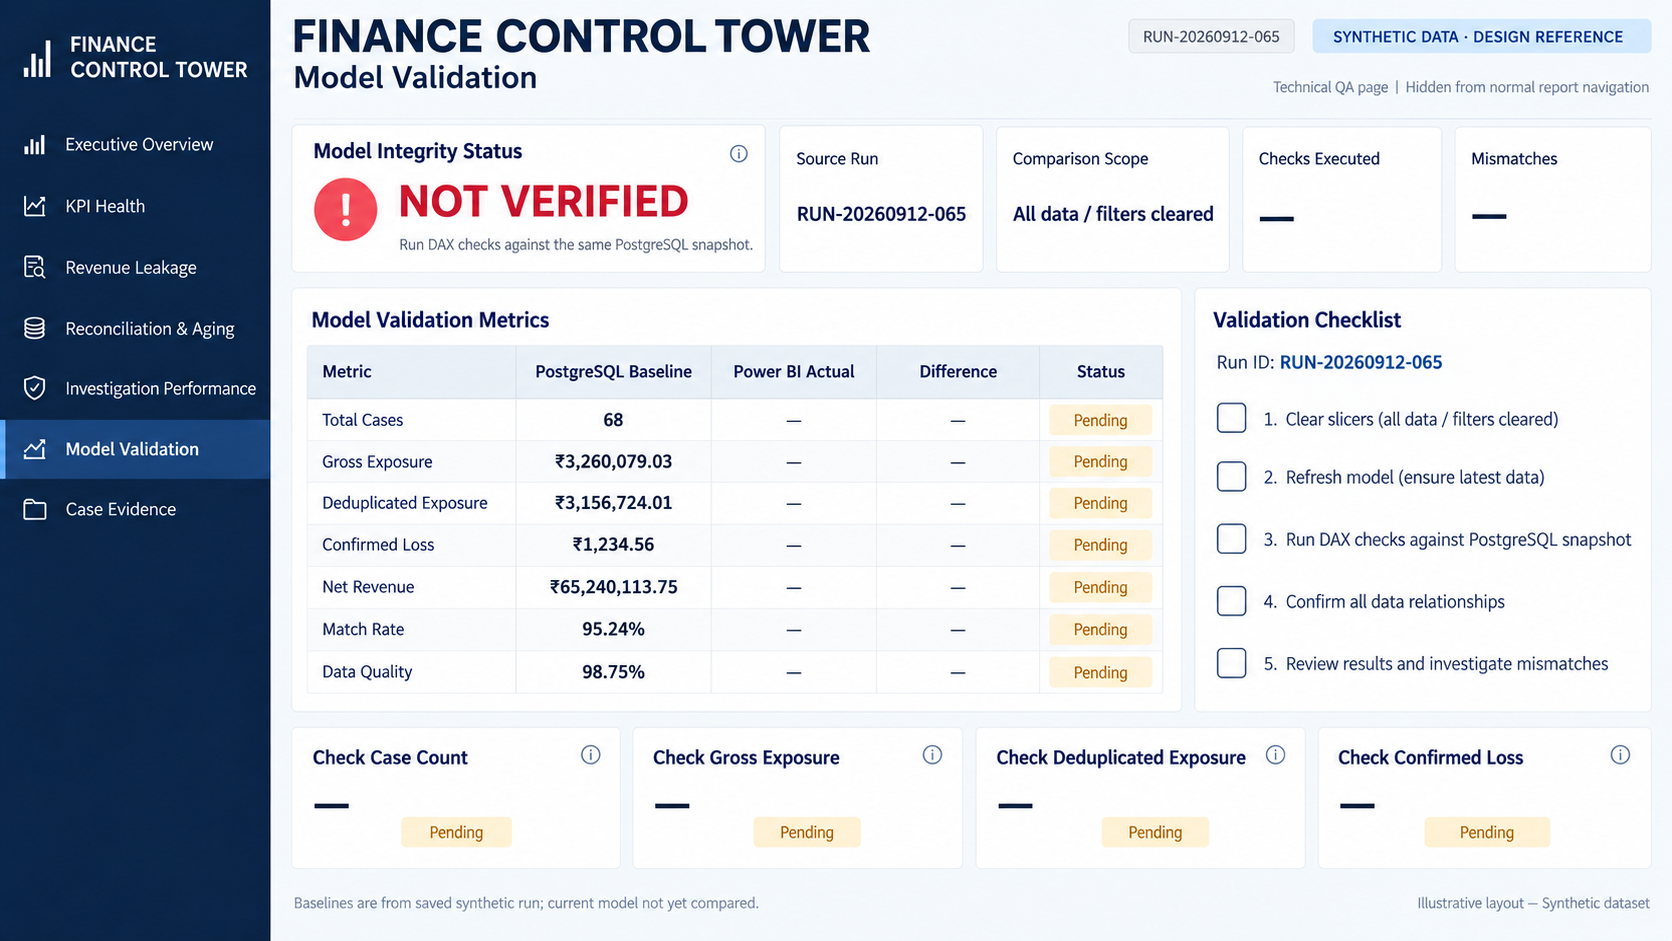

Layout of this report page (visuals, bound fields, positions):
{"tool":"powerbi","page":{"name":"Model Validation","canvas":[1280,720],"ordinal":5},"visuals":[{"type":"cardVisual","fields":{"Data":["rpt_control_totals.Check Gross Exposure Delta"]},"box":[0,223.1,289.3,171.4],"z":0},{"type":"cardVisual","fields":{"Data":["rpt_control_totals.Check Deduplicated Exposure Delta"]},"box":[0,394.5,377.2,158.7],"z":1000},{"type":"cardVisual","fields":{"Data":["rpt_control_totals.Check Confirmed Loss Delta"]},"box":[377.2,394.5,338.2,158.7],"z":2000},{"type":"cardVisual","fields":{"Data":["rpt_control_totals.Check Case Count Delta"]},"box":[606.6,223.1,273.9,171.4],"z":3000},{"type":"cardVisual","fields":{"Data":["rpt_control_totals.Check Net Revenue Delta"]},"box":[715.5,394.5,257.5,158.7],"z":4000},{"type":"cardVisual","fields":{"Data":["rpt_control_totals.Check Dedup Not Above Gross"]},"box":[870.5,223.1,409.9,171.4],"z":5000},{"type":"cardVisual","fields":{"Data":["rpt_control_totals.Check Recovery Within Loss"]},"box":[973,394.5,307.4,158.7],"z":6000},{"type":"cardVisual","fields":{"Data":["rpt_control_totals.Check Zero Exposure Rules Hold"]},"box":[289.3,223.1,317.4,171.4],"z":7000},{"type":"cardVisual","fields":{"Data":["rpt_control_totals.Model Integrity"]},"box":[0,54.4,1280.4,168.7],"z":8000},{"type":"textbox","box":[0,0,1280.4,54.4],"z":9001}]}

Visuals, with their boxes on the page's 1280x720 design canvas (x1, y1, x2, y2). These are canvas units, not pixel positions in the 1672x941 screenshot, which may show the page scaled, cropped or inside an application window:
cardVisual - rpt_control_totals.Check Gross Exposure Delta: crop(0, 223, 289, 394)
cardVisual - rpt_control_totals.Check Deduplicated Exposure Delta: crop(0, 394, 377, 553)
cardVisual - rpt_control_totals.Check Confirmed Loss Delta: crop(377, 394, 715, 553)
cardVisual - rpt_control_totals.Check Case Count Delta: crop(607, 223, 880, 394)
cardVisual - rpt_control_totals.Check Net Revenue Delta: crop(716, 394, 973, 553)
cardVisual - rpt_control_totals.Check Dedup Not Above Gross: crop(870, 223, 1280, 394)
cardVisual - rpt_control_totals.Check Recovery Within Loss: crop(973, 394, 1280, 553)
cardVisual - rpt_control_totals.Check Zero Exposure Rules Hold: crop(289, 223, 607, 394)
cardVisual - rpt_control_totals.Model Integrity: crop(0, 54, 1280, 223)
textbox: crop(0, 0, 1280, 54)
